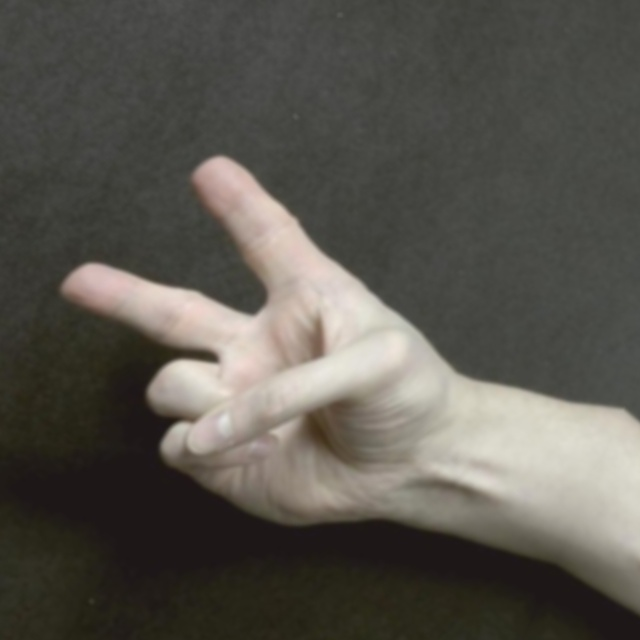Scissors: (0, 96, 547, 635)
